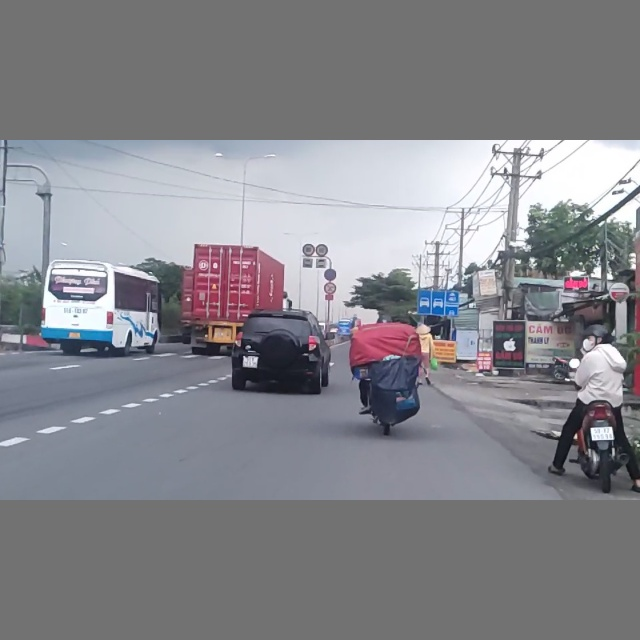P.111: (324, 283, 336, 293)
P.130: (322, 268, 337, 281)
R.415a: (417, 289, 459, 317)
